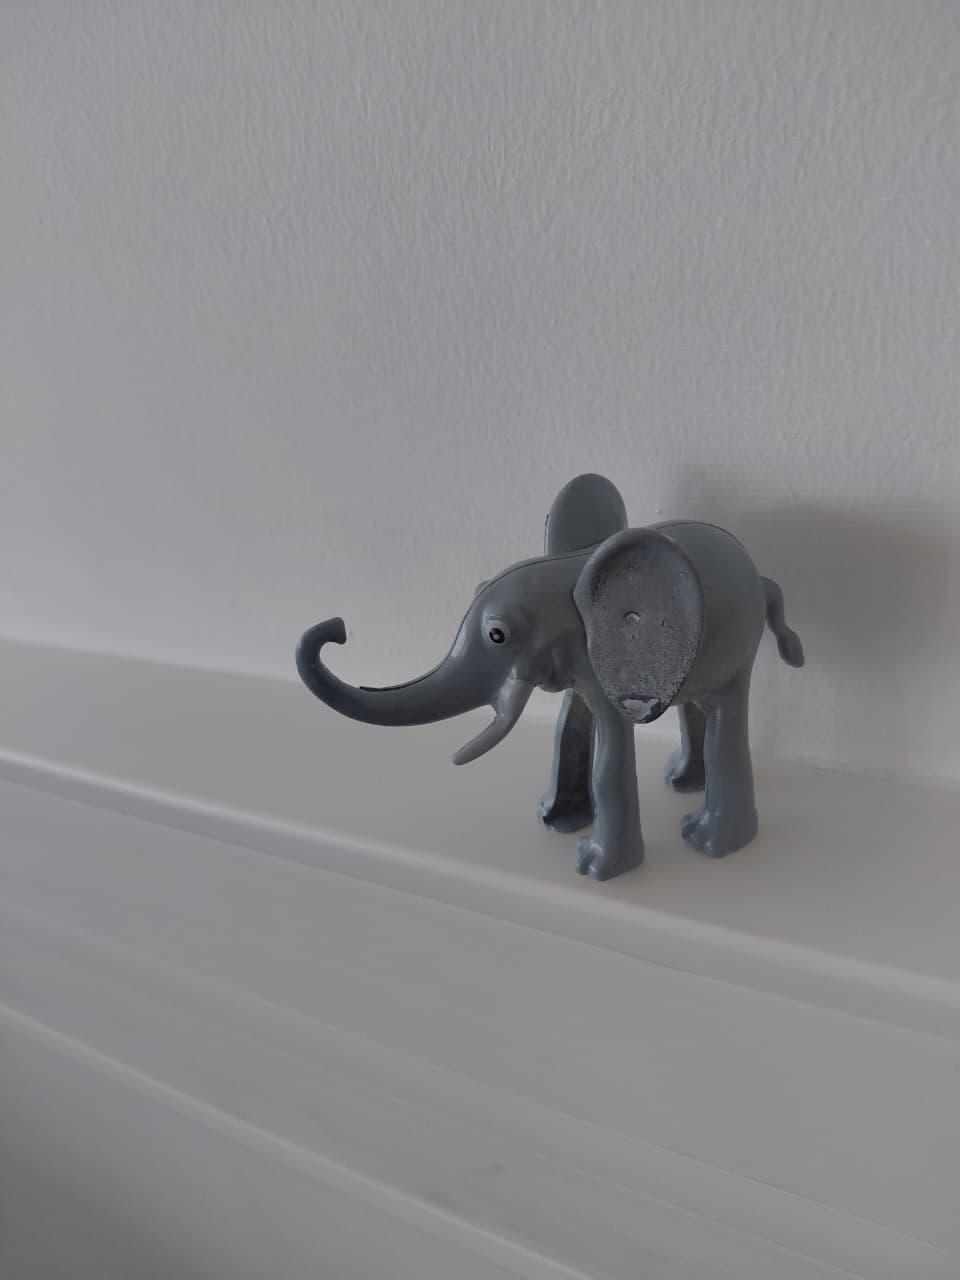elephant: (277, 466, 818, 897)
